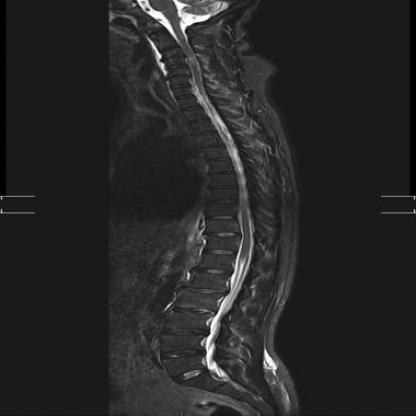Annular Tearrotation: (162, 349, 204, 362)
Disc Bulgerotation: (156, 325, 207, 338), (160, 348, 206, 362), (172, 303, 214, 317)
Disc Protrusionrotation: (184, 282, 225, 298), (160, 52, 184, 65)
